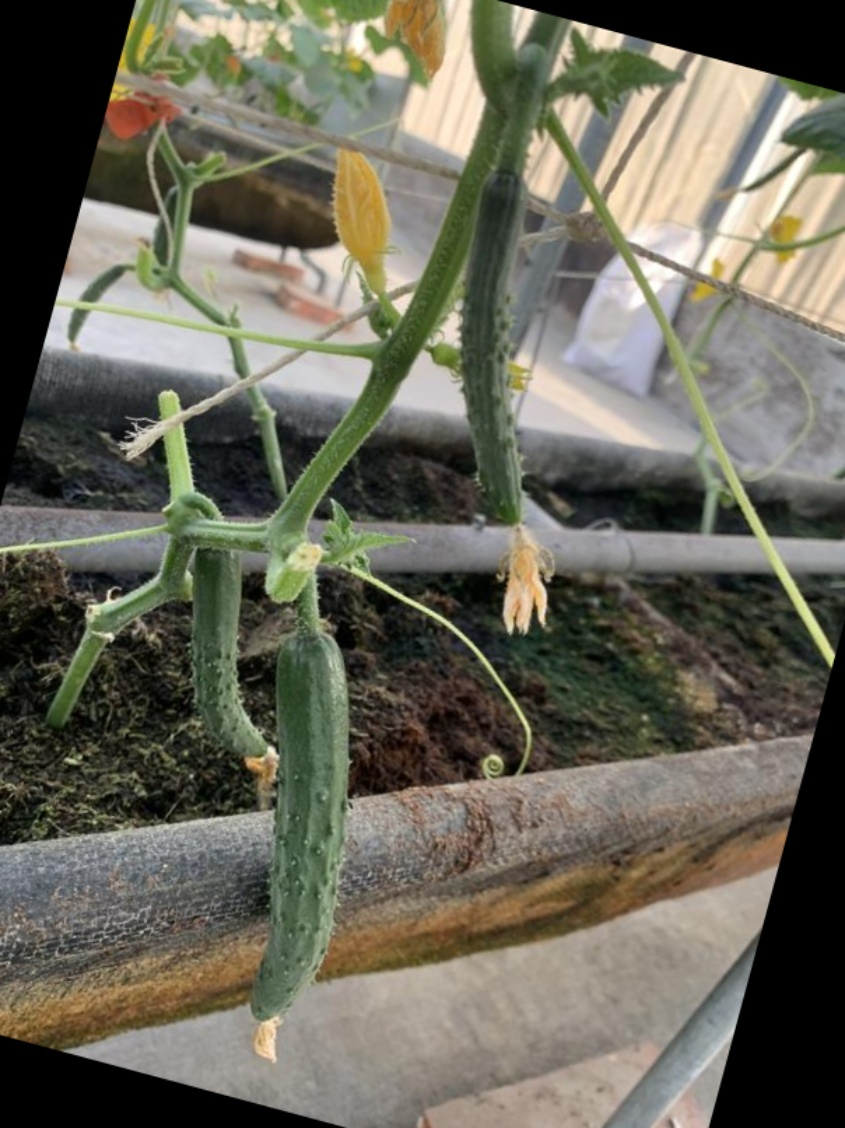growth: (432, 155, 569, 616)
mature: (238, 601, 359, 1022)
